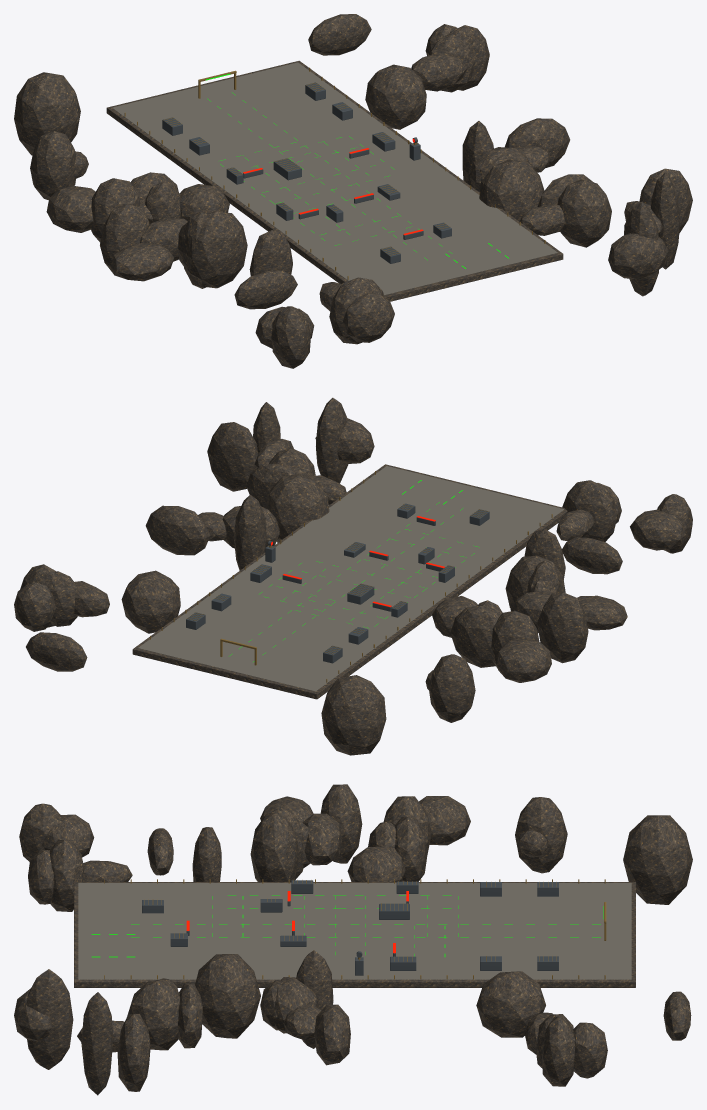
Rendered from bullion_freight_yard.glb.
The picture shows the model from 3 angles, top to bottom: view 1: azimuth 30°, elevation 25°; view 2: azimuth 150°, elevation 25°; view 3: azimuth 270°, elevation 25°; orthographic projection. The views are drawn at different scales.
Visible parts, largest first — view 1: Bullion fractured gold-bearing rock, Industrial freight concrete, Brushed dark alloy, Dull gold structural alloy; view 2: Bullion fractured gold-bearing rock, Industrial freight concrete, Brushed dark alloy, Dull gold structural alloy; view 3: Bullion fractured gold-bearing rock, Industrial freight concrete, Brushed dark alloy, Friendly liquidity #00FF00, Dull gold structural alloy.
Boxes of the visible parts, box(x1,y1,x2,y2) form: Bullion fractured gold-bearing rock: box(14, 14, 692, 368); Industrial freight concrete: box(112, 62, 557, 295); Brushed dark alloy: box(162, 82, 451, 263); Dull gold structural alloy: box(124, 67, 545, 279); Bullion fractured gold-bearing rock: box(14, 397, 692, 755); Industrial freight concrete: box(138, 466, 564, 691); Brushed dark alloy: box(186, 503, 489, 663); Dull gold structural alloy: box(150, 471, 552, 682); Bullion fractured gold-bearing rock: box(14, 784, 692, 1095); Industrial freight concrete: box(78, 883, 631, 979); Brushed dark alloy: box(142, 880, 558, 975); Friendly liquidity #00FF00: box(91, 895, 600, 957); Dull gold structural alloy: box(104, 879, 606, 979).
Bounding box in the file's own units: 141 × 26.06 × 155.
Materials: 6 (1 with a texture image).
